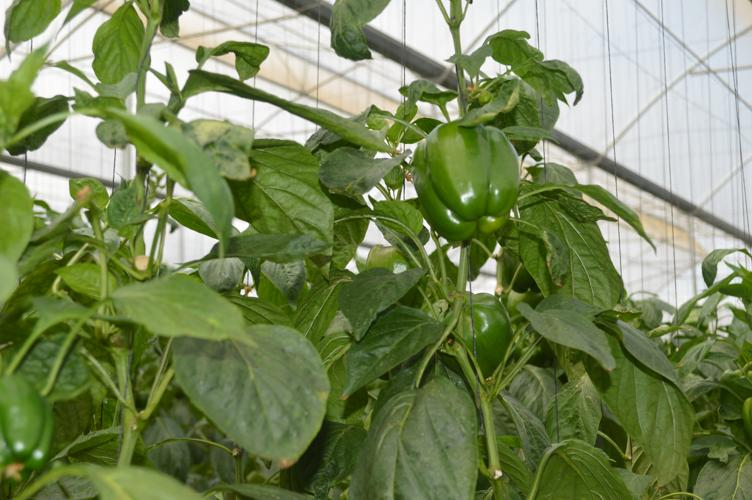BellPepper: (416, 122, 520, 238), (438, 294, 513, 375), (2, 377, 53, 468)
